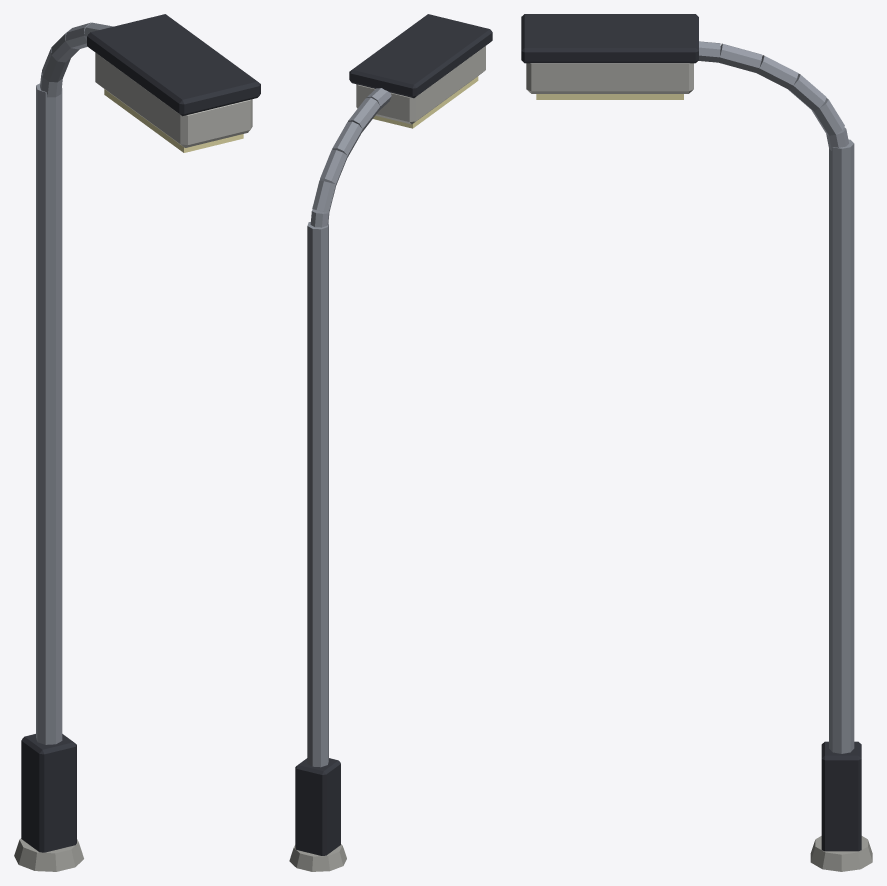
File: StreetLight.glb
The picture shows the model from 3 angles, left to right: view 1: azimuth 30°, elevation 25°; view 2: azimuth 150°, elevation 25°; view 3: azimuth 270°, elevation 25°; orthographic projection. The views are drawn at different scales.
Parts seen in each view (by area): view 1: Body; view 2: Body; view 3: Body.
Boxes of the visible parts, x1=… form: Body: x1=14, y1=14, x2=260, y2=871; Body: x1=289, y1=14, x2=492, y2=871; Body: x1=521, y1=14, x2=872, y2=871.
Bounding box in the file's own units: 0.52 × 5.44 × 2.1.
